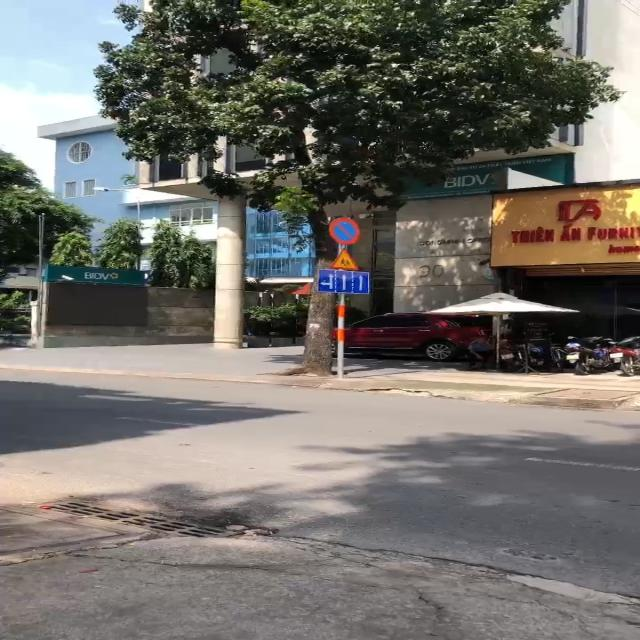Bien bao tre em: (326, 247, 362, 270)
